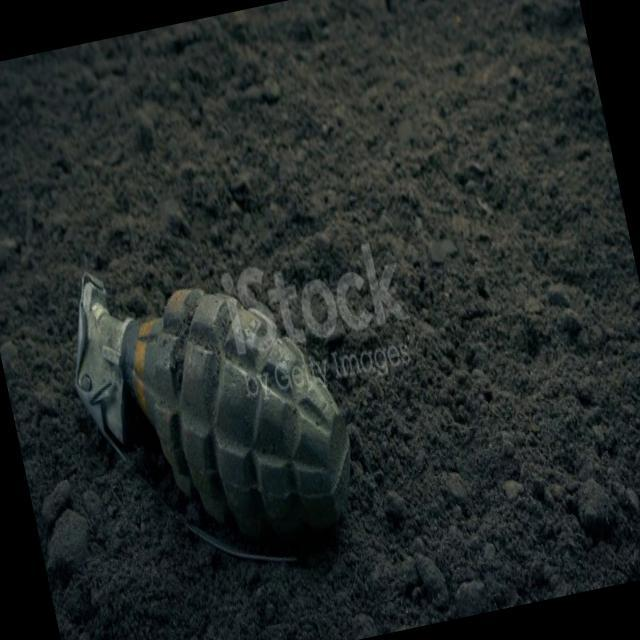grenade: (50, 227, 378, 600)
